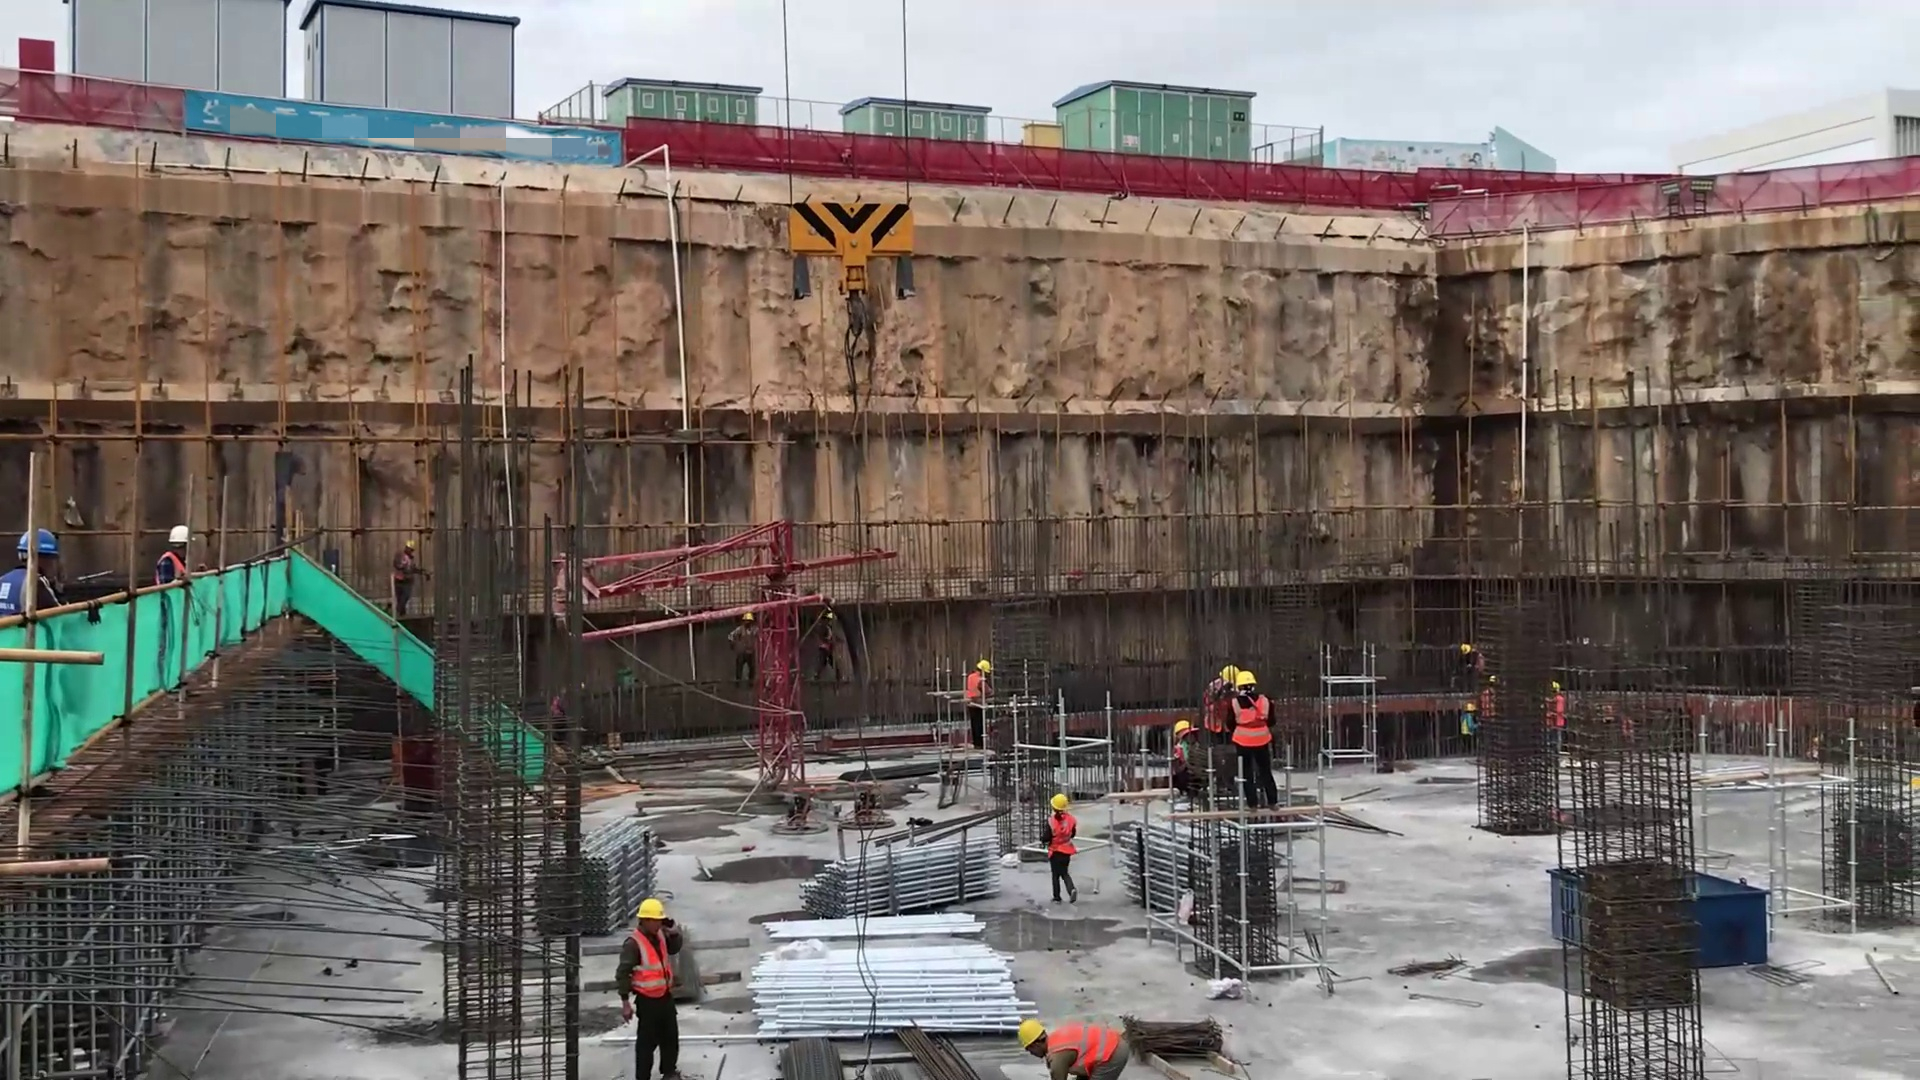helmet: (1009, 1014, 1052, 1053), (955, 638, 998, 676), (1216, 664, 1273, 693), (13, 520, 61, 554), (633, 889, 682, 922), (1048, 781, 1097, 808), (1462, 685, 1481, 714), (170, 520, 189, 543), (1542, 669, 1579, 680), (1461, 631, 1474, 653)
person: (615, 893, 697, 1080), (1009, 1008, 1143, 1080), (1225, 664, 1281, 795), (1, 524, 69, 611), (1036, 789, 1075, 899), (382, 530, 431, 612), (967, 643, 997, 734), (158, 519, 192, 583), (1447, 639, 1478, 679), (1548, 674, 1565, 739), (1458, 696, 1477, 753)
vest: (624, 912, 679, 996), (1044, 1018, 1132, 1065), (5, 560, 63, 612), (1231, 689, 1278, 749), (146, 549, 192, 589), (1047, 807, 1079, 858), (959, 666, 992, 701), (396, 545, 419, 577), (1543, 693, 1567, 715)
